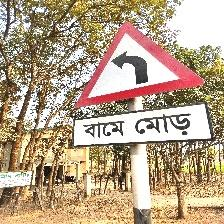Left-Turn: (71, 19, 212, 150)
